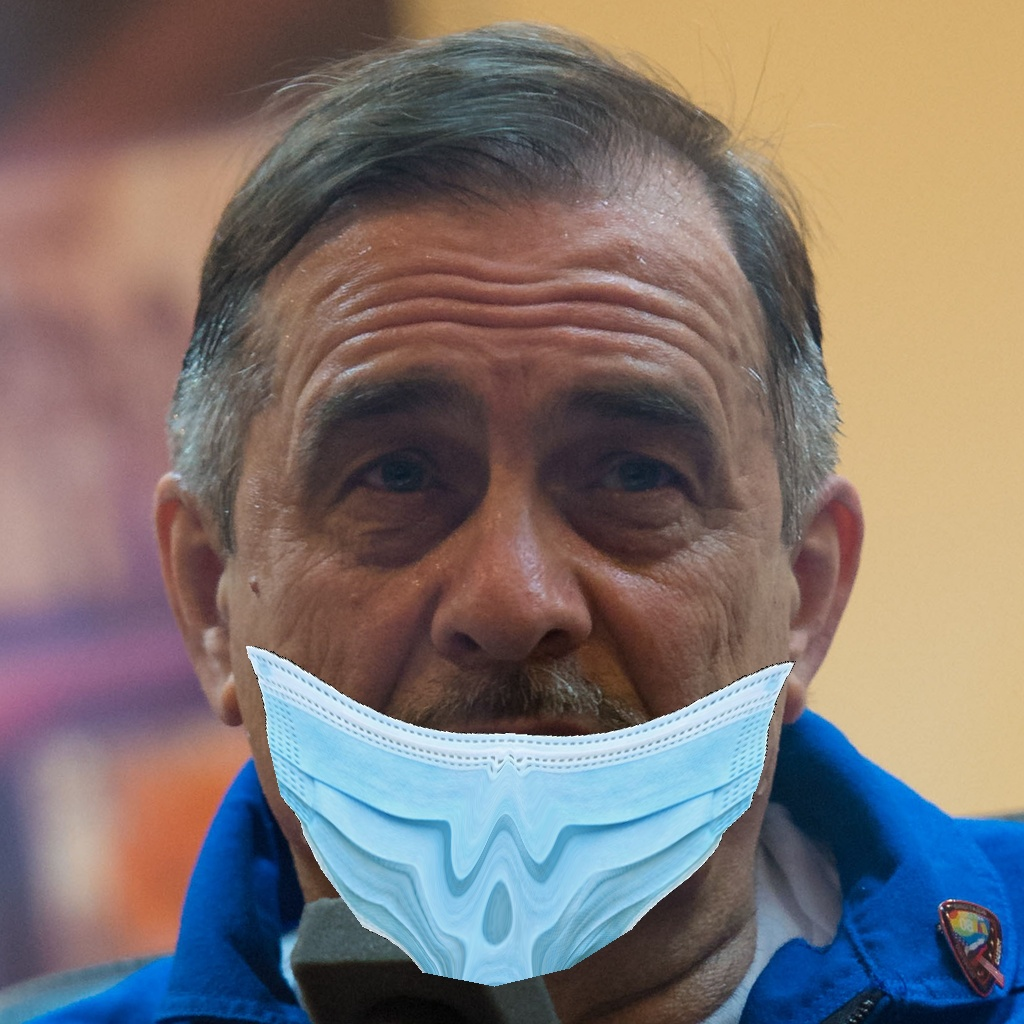mascarilla_mal_puesta: (223, 333, 813, 985)
